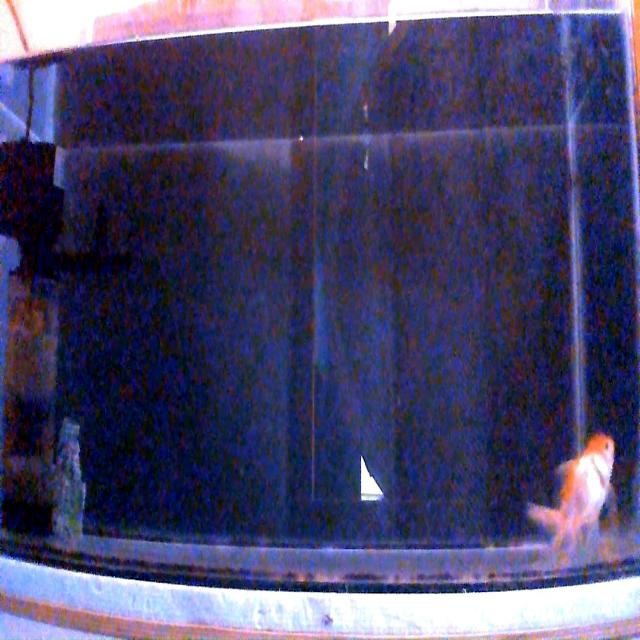fish: (525, 429, 616, 560)
